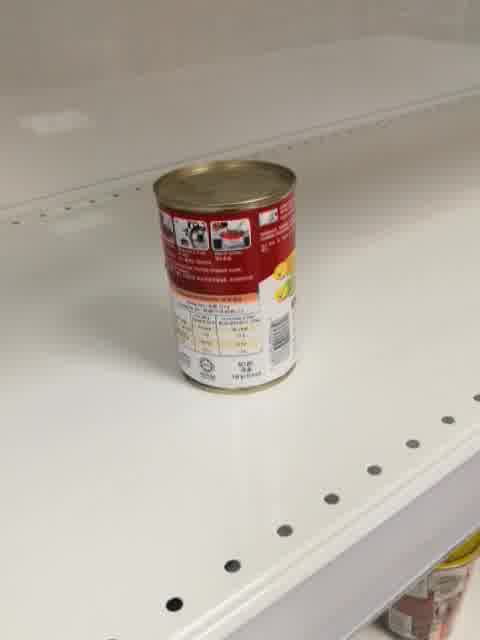tomatosoup: (150, 155, 302, 400)
